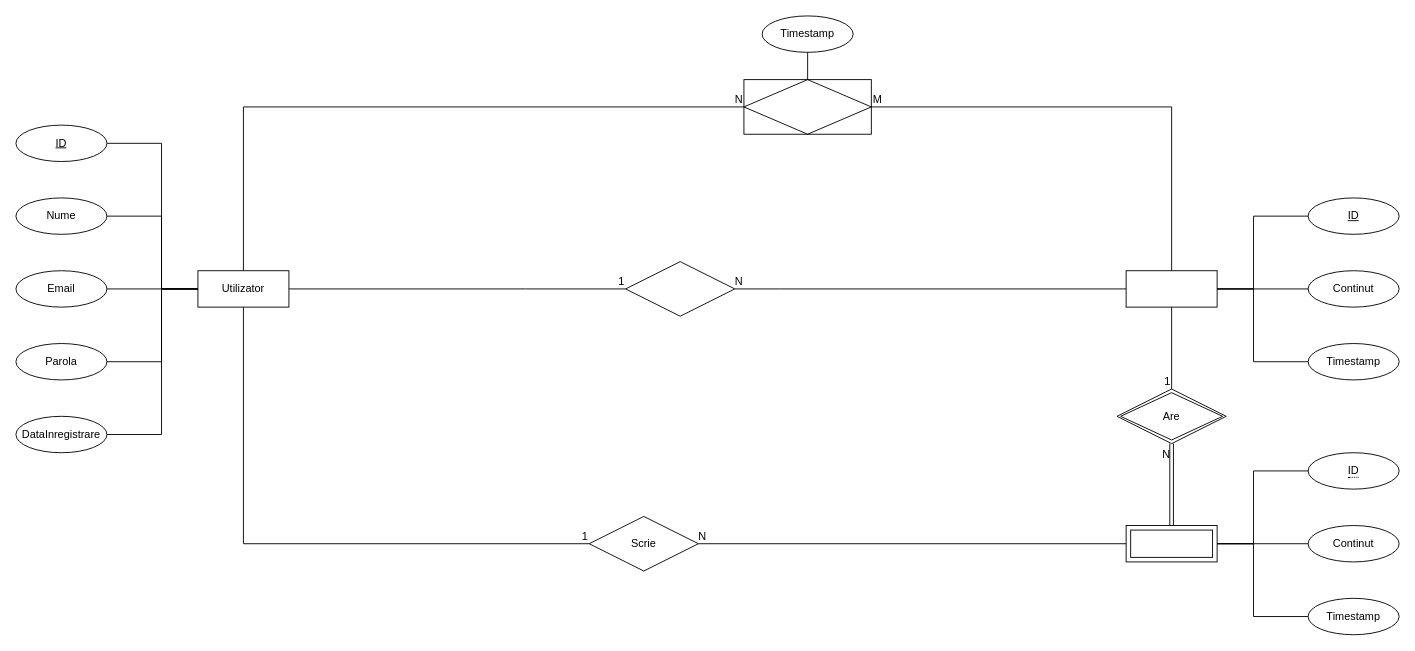
Image size: 1415x651. Some labels were removed from this diagram. Here are the shapes that lost their labels. From the top down, the box of each, then its label:
(743, 79, 871, 134): Aprecieri
(625, 261, 735, 316): Posteaza
(1125, 270, 1217, 307): Postare
(1125, 525, 1217, 562): Comentarii
